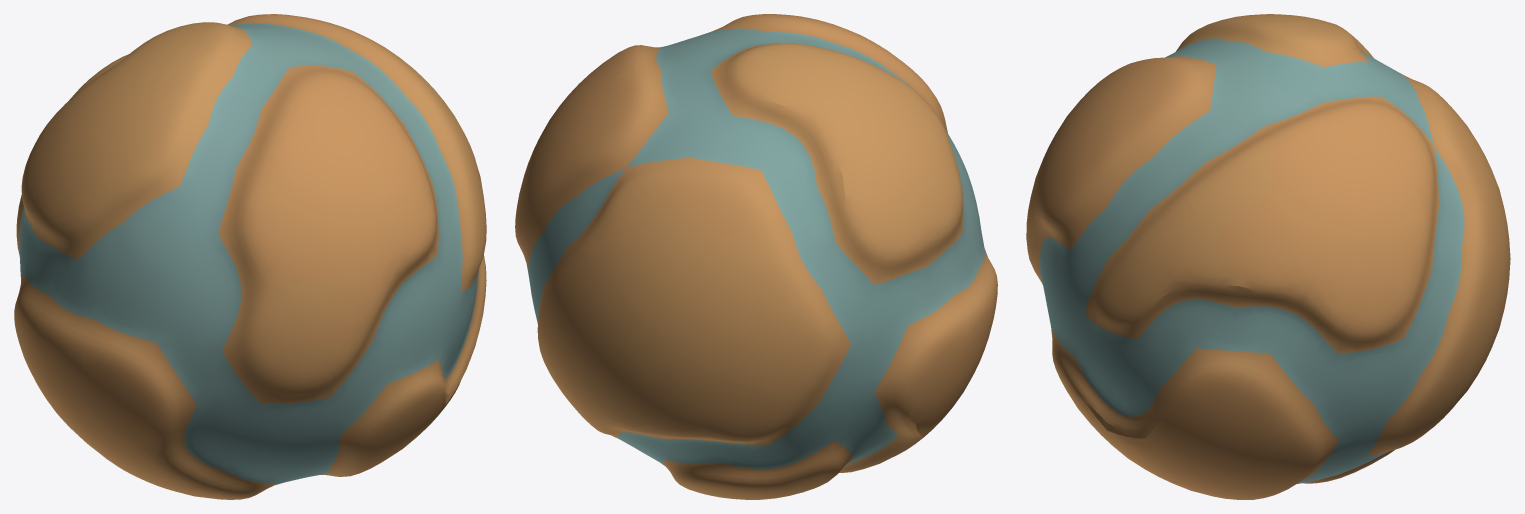
Rendered from q-planet-ryguwnnpva.glb.
The picture shows the model from 3 angles, left to right: view 1: azimuth 30°, elevation 25°; view 2: azimuth 150°, elevation 25°; view 3: azimuth 270°, elevation 25°; orthographic projection.
Visible parts, largest first — view 1: Planet_2; view 2: Planet_2; view 3: Planet_2.
Part boxes in pixels (x1,y1,x2,y2): Planet_2: (14,14,486,499); Planet_2: (515,14,997,499); Planet_2: (1026,14,1510,499).
Bounding box in the file's own units: 3.81 × 3.83 × 3.85.
Materials: 1 (1 with a texture image).
